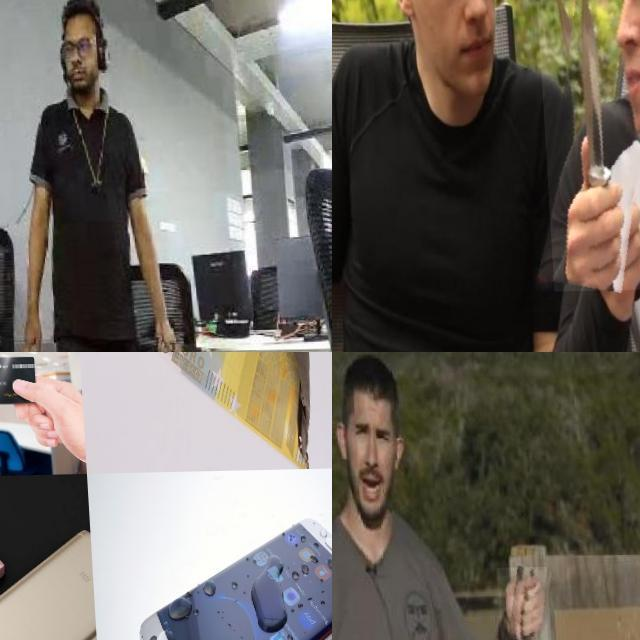-: (533, 0, 640, 293), (494, 568, 550, 640)
